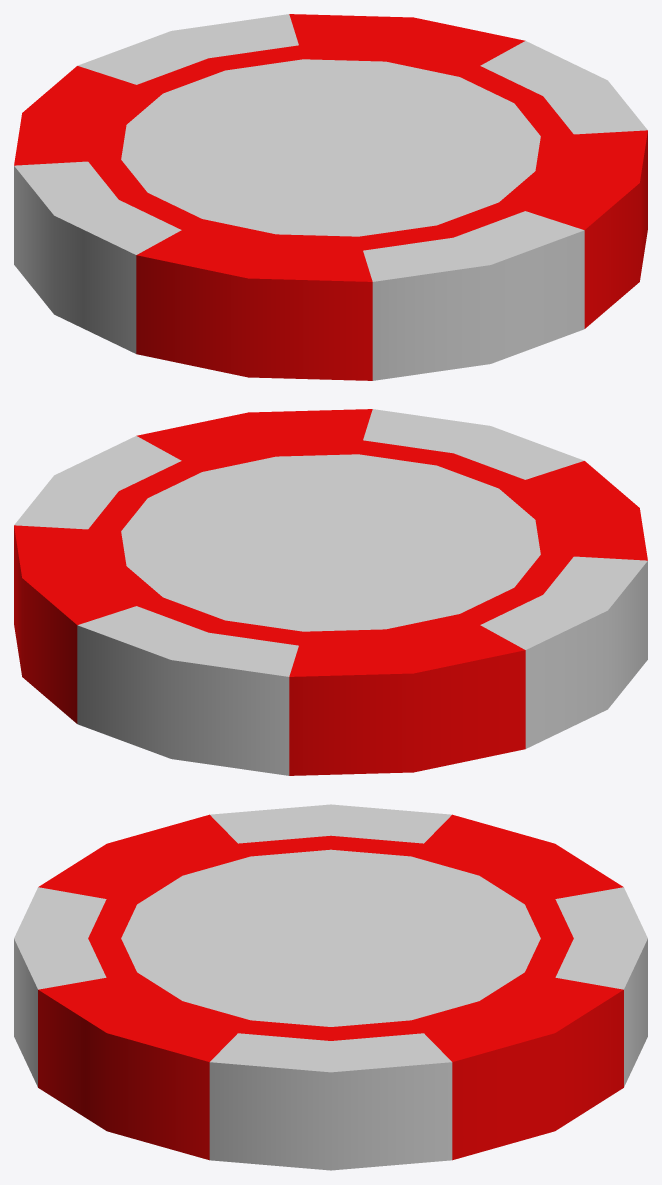
The model's file is red_chips.glb.
The picture shows the model from 3 angles, top to bottom: view 1: azimuth 30°, elevation 25°; view 2: azimuth 150°, elevation 25°; view 3: azimuth 270°, elevation 25°; orthographic projection.
Parts seen in each view (by area): view 1: Cylinder, Cylinder_Mat_0.001; view 2: Cylinder, Cylinder_Mat_0.001; view 3: Cylinder, Cylinder_Mat_0.001.
Boxes of the visible parts, x1,y1,x2,y2 form: Cylinder: (14, 14, 647, 380); Cylinder_Mat_0.001: (14, 14, 647, 380); Cylinder: (14, 409, 647, 775); Cylinder_Mat_0.001: (14, 409, 647, 775); Cylinder: (14, 804, 647, 1170); Cylinder_Mat_0.001: (38, 814, 623, 1160).
Bounding box in the file's own units: 100 × 17.08 × 100.
